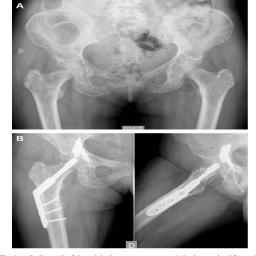cancer: (20, 74, 68, 110)
